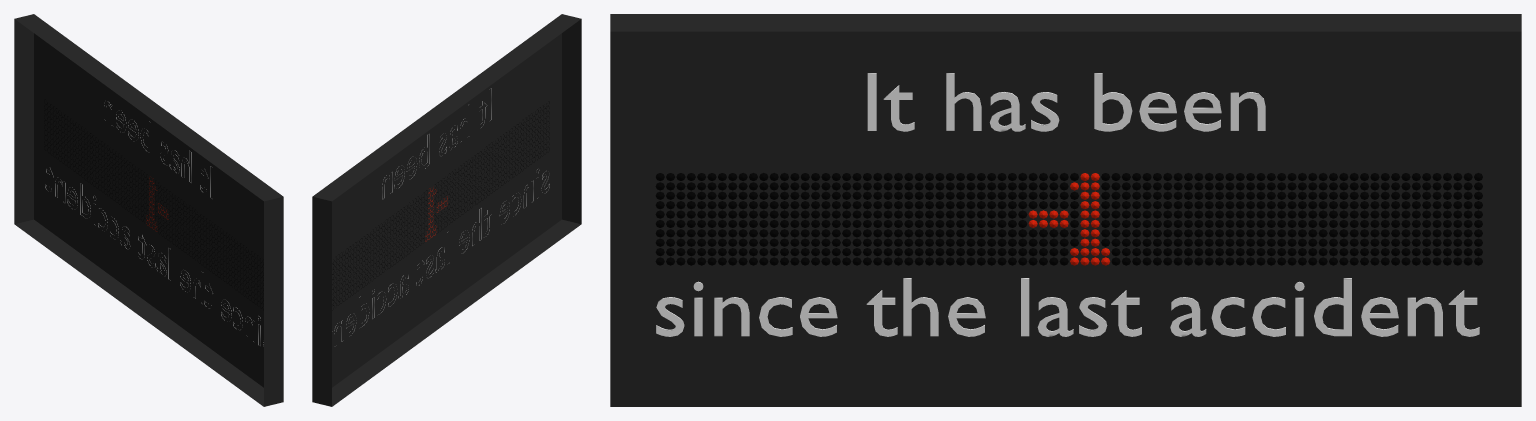
Rendered from AccidentCounter.fbx.
3 renders of one model, left to right at view 1: azimuth 30°, elevation 25°; view 2: azimuth 150°, elevation 25°; view 3: azimuth 270°, elevation 25°, orthographic. The views are drawn at different scales.
Parts seen in each view (by area): view 1: Text.001; view 2: Text.001; view 3: Text.001.
Part boxes in pixels (x1,y1,x2,y2): Text.001: [14, 14, 283, 406]; Text.001: [312, 14, 581, 406]; Text.001: [610, 14, 1521, 406].
Size of the model in its own units: 20.75 by 200 by 440.
